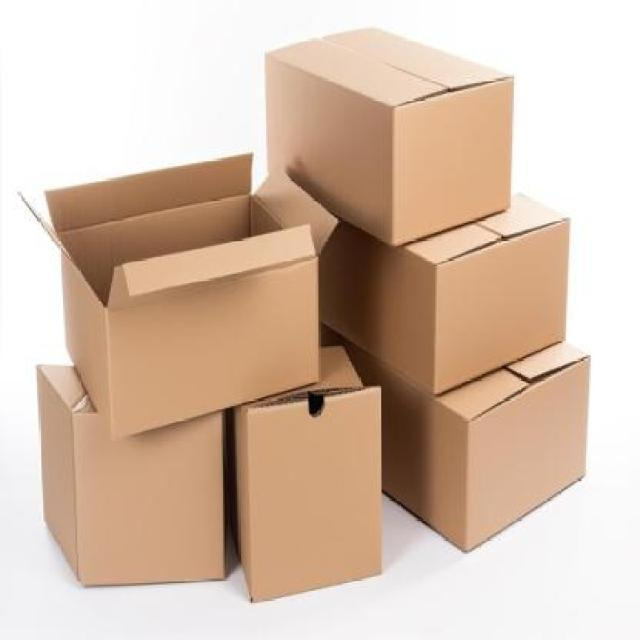BoxFace: (111, 258, 320, 438), (246, 384, 382, 604), (72, 397, 222, 585), (464, 352, 592, 554), (434, 216, 570, 396), (393, 74, 513, 251)
